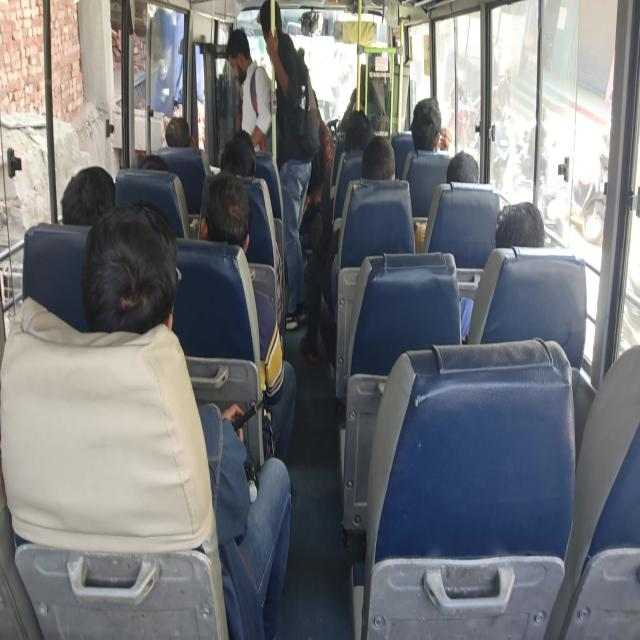person: (86, 203, 171, 310), (197, 180, 260, 270), (61, 167, 127, 226), (494, 197, 546, 258), (259, 10, 301, 82), (338, 101, 381, 157), (354, 147, 402, 195), (452, 148, 490, 207), (407, 97, 446, 153), (227, 143, 270, 190), (221, 37, 258, 81), (138, 156, 186, 189), (168, 116, 205, 158), (234, 118, 256, 160)
